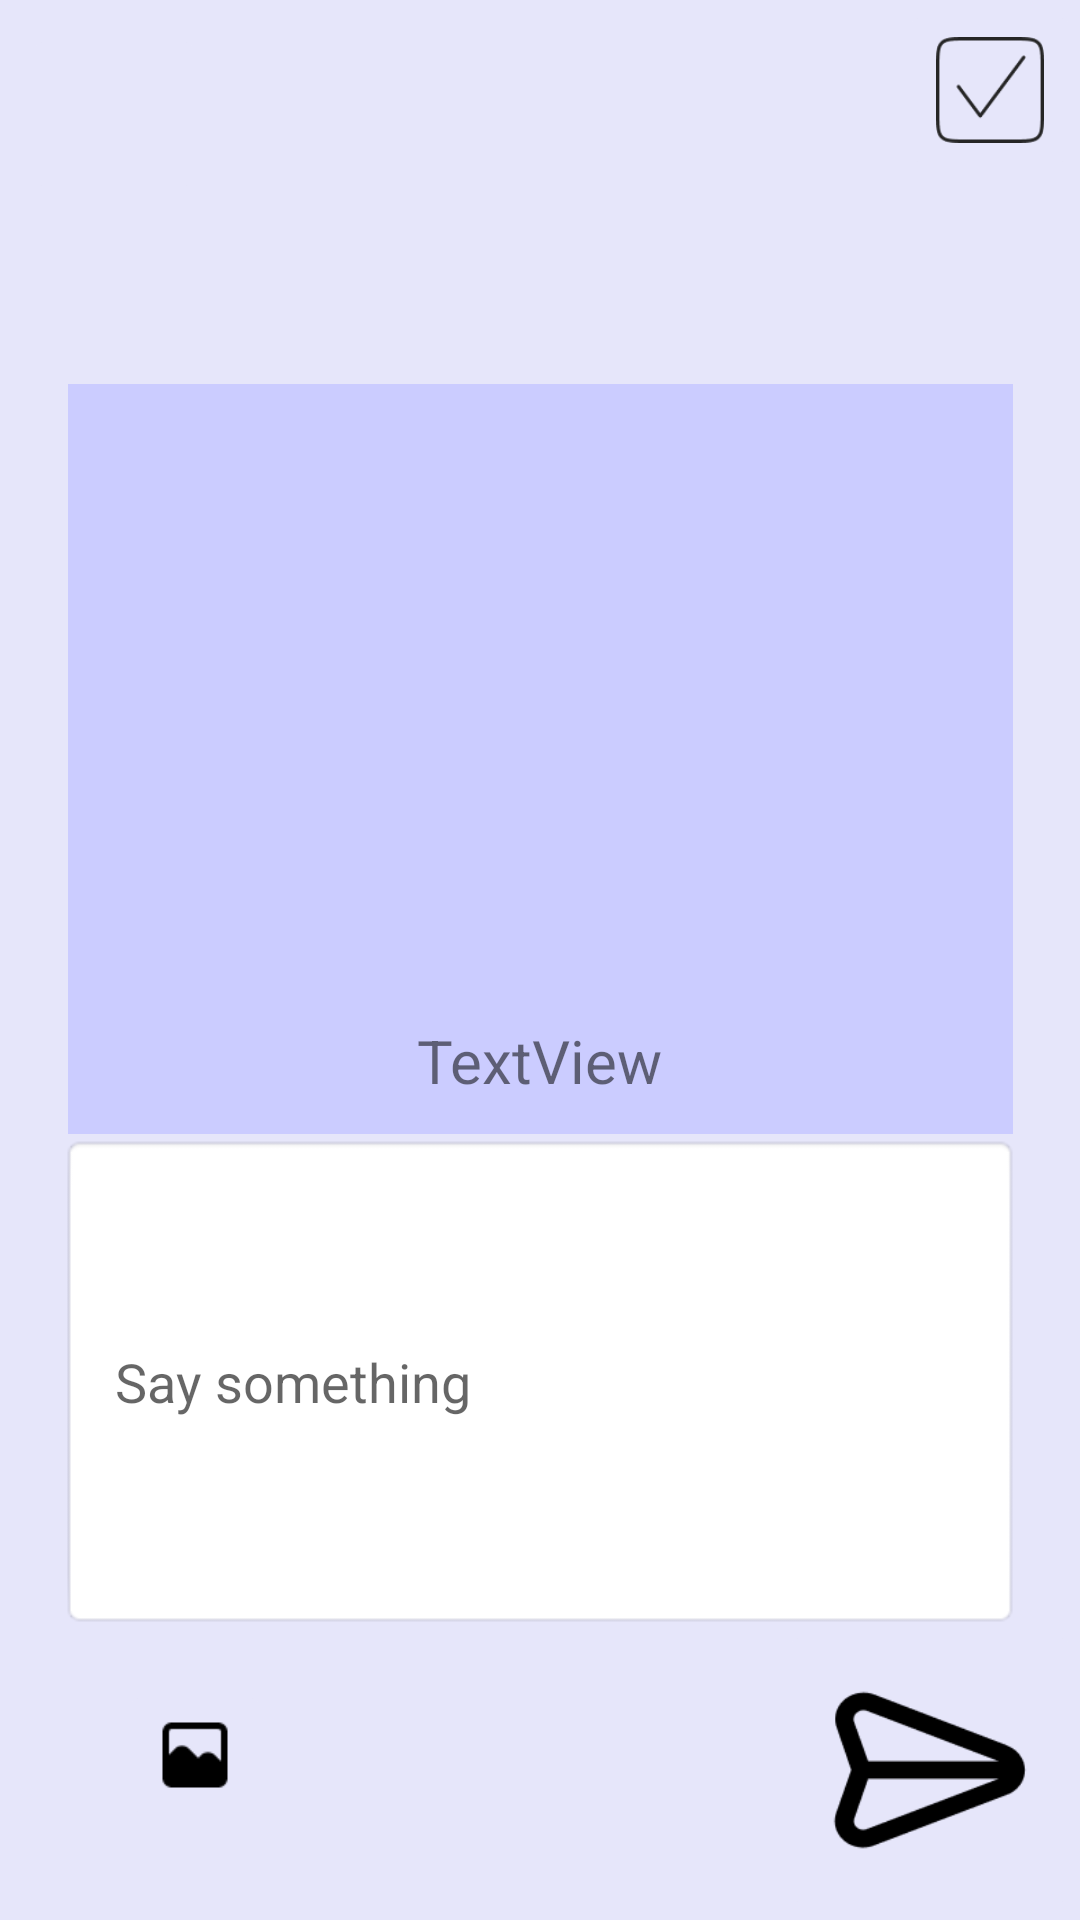

Where icons sit on this 1080 × 1920 app screen, as rect(x1, y1, x2, y2):
send: rect(834, 1691, 1026, 1849)
tick: rect(936, 37, 1044, 143)
